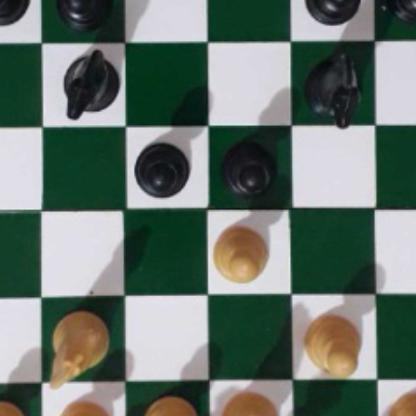black-knight: (304, 47, 362, 124), (61, 47, 117, 113)
black-pawn: (219, 134, 276, 197), (134, 134, 190, 196), (57, 0, 110, 27), (304, 0, 361, 22), (0, 0, 26, 26), (389, 0, 416, 22)
white-knight: (45, 304, 106, 383), (219, 389, 283, 416)
white-pawn: (303, 310, 362, 376), (212, 220, 268, 282), (140, 394, 197, 416), (54, 399, 112, 416), (0, 397, 24, 416)
